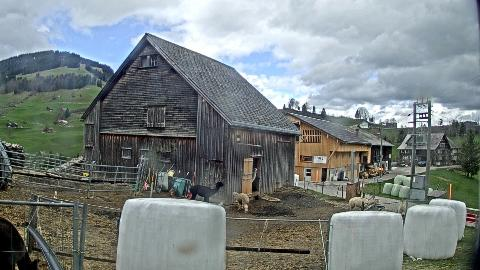car: (418, 161, 426, 167)
sheep: (0, 216, 40, 270), (188, 180, 223, 204), (348, 197, 380, 211), (232, 192, 250, 214), (382, 204, 406, 216), (251, 168, 257, 182)
